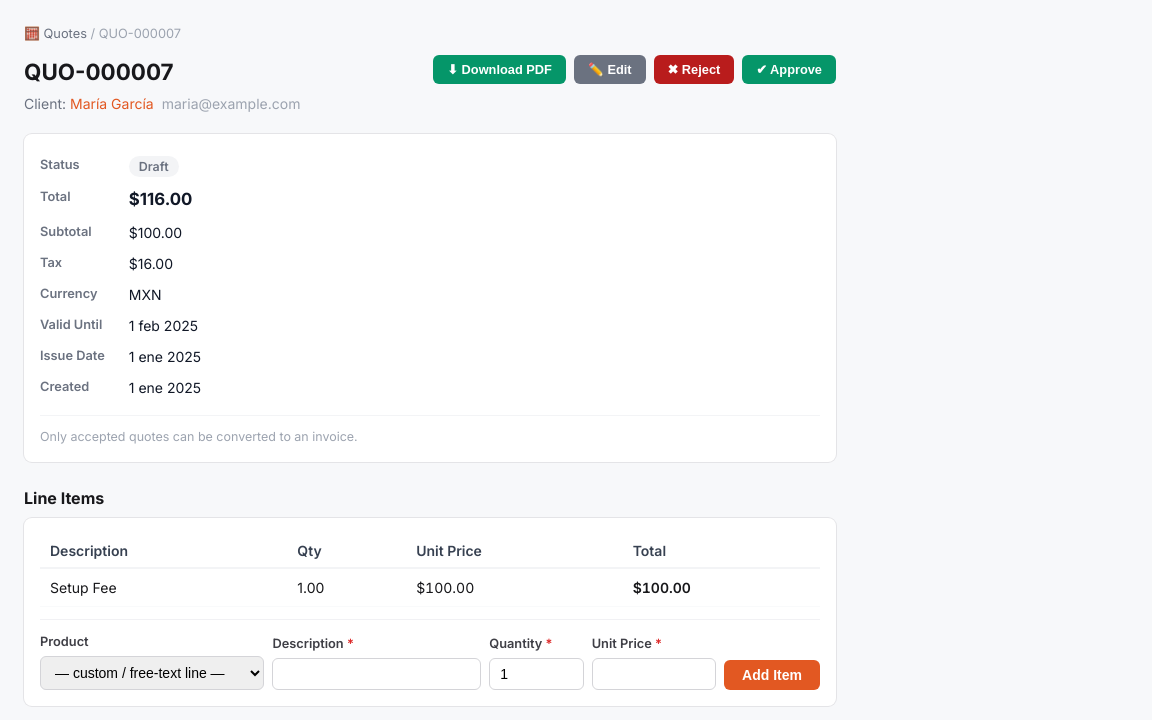
QuoteDetail page › blocks submit with a fractional quantity on a product-picker (inventory-linked) line
expect the text "Setup Fee" is shown: met, box [40,568,287,607]
Select "MikroTik hAP ac3 — 899.00 (on hand: 5)" in the dropdown labelled "Product" at x=152, y=673, box [40,656,264,690]
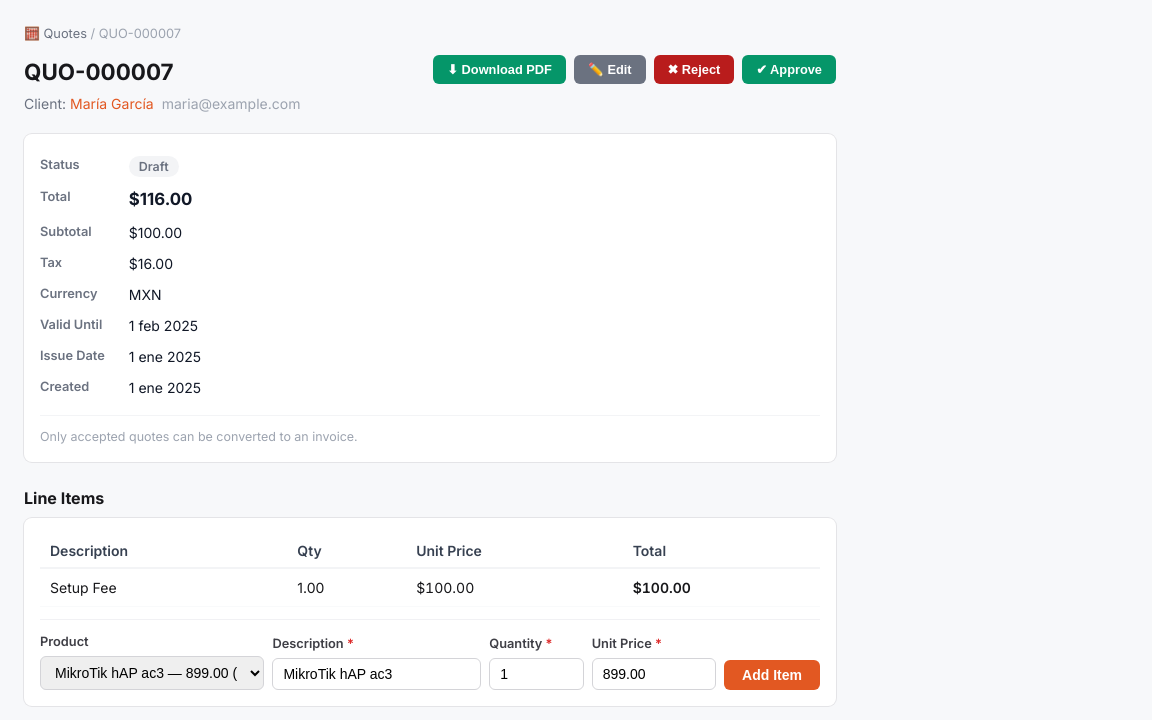
Replace the text in the number field labelled "Quantity *" with "1.5" at x=536, y=674, box [489,658,584,690]
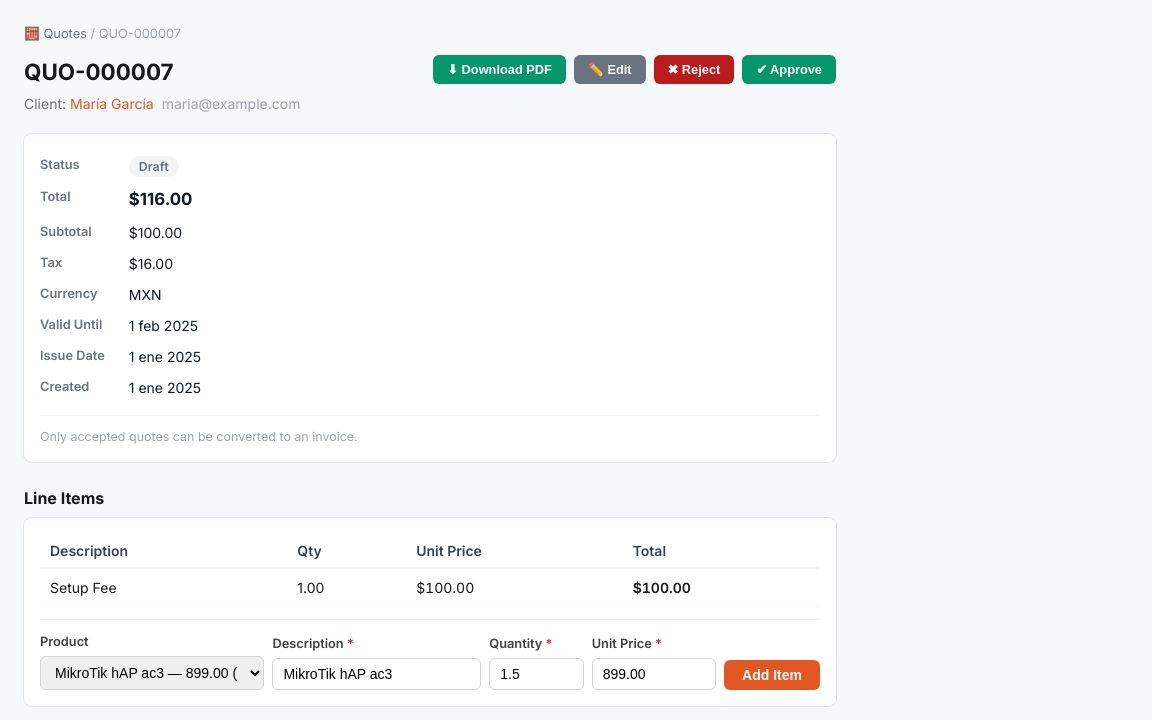
Submit the form labelled "Product Description * Quantity * Unit Price * Add Item", box [40,619,820,690]
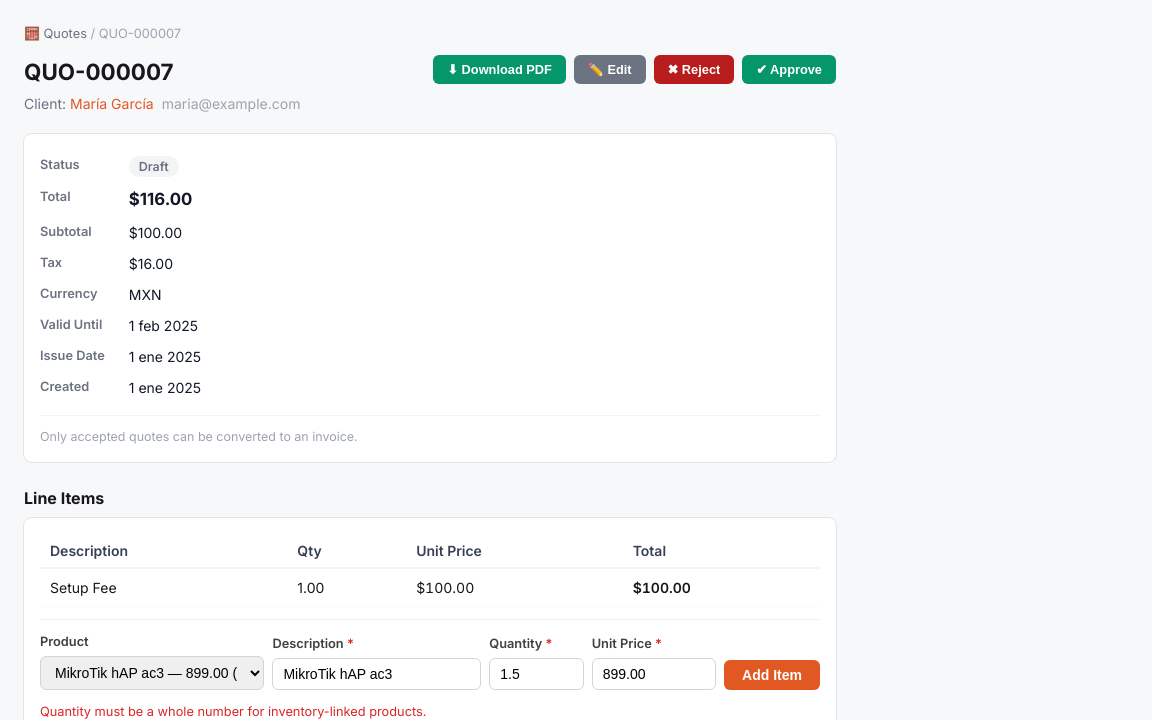
expect the text "Quantity must be a whole number for inventory-linked products." is shown: met, box [40,704,426,719]
